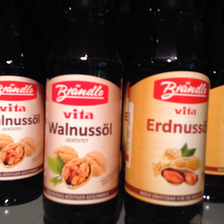oil: (125, 3, 211, 224), (43, 3, 126, 224)
